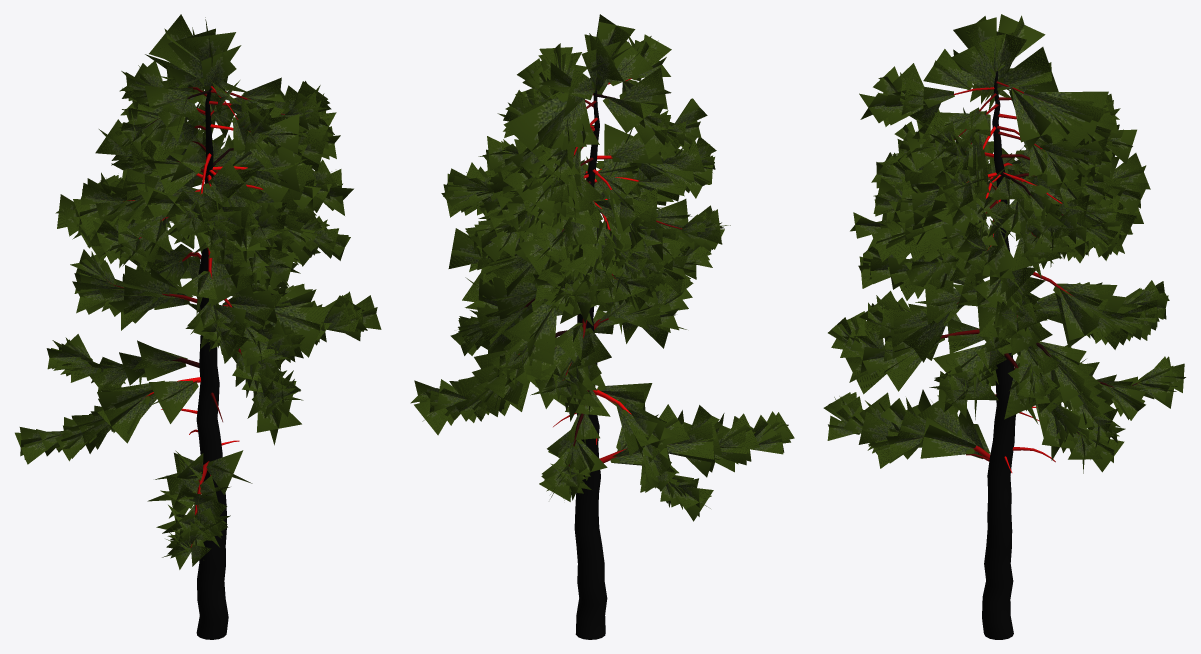
The model's file is pine3 lod0.FBX.
3 views of the same model, side by side, from view 1: azimuth 30°, elevation 25°; view 2: azimuth 150°, elevation 25°; view 3: azimuth 270°, elevation 25° (orthographic).
Visible parts, largest first — view 1: pine3; view 2: pine3; view 3: pine3.
Boxes of the visible parts, x1,y1,x2,y2 form: pine3: (15,14,381,639); pine3: (410,14,794,639); pine3: (823,14,1185,639).
Size of the model in its own units: 178108 by 346402 by 186121.
